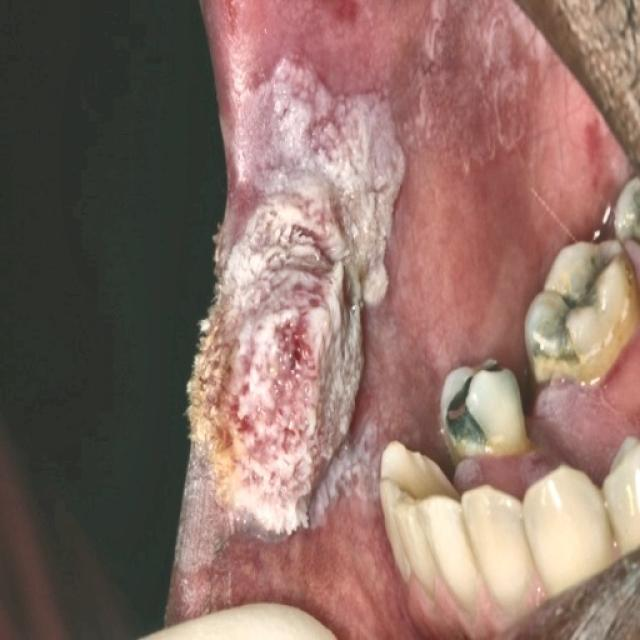cancer-detection: (174, 50, 410, 575)
processing_area: (156, 0, 627, 639)
